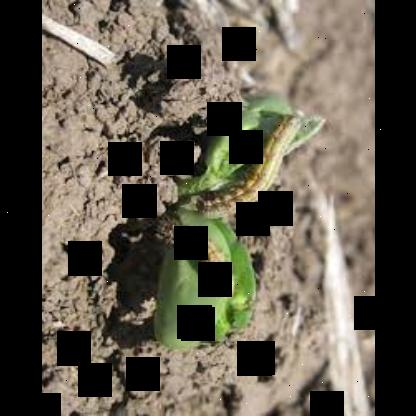oruga: (193, 108, 312, 216), (151, 212, 237, 304)
